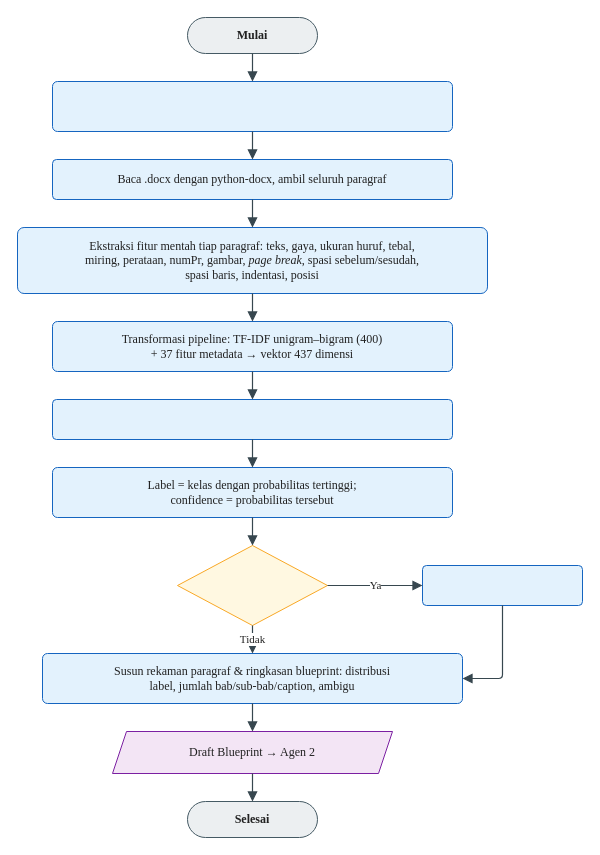
The diagram is 600 pixels wide and 855 high, and some of its shapes have lost their labels. Each missing label, with the box of its shape:
confidence < 0,70?: (176, 544, 328, 626)
is_ambiguous = True: (422, 564, 582, 606)
Muat model & pipeline fitur (baseline_model.joblib, feature_pipeline.joblib): (52, 80, 452, 132)
Random Forest: predict_proba untuk 9 kelas: (52, 398, 452, 440)
